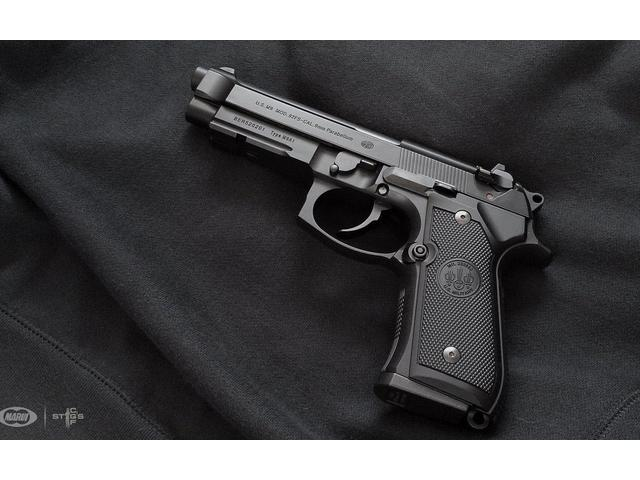pistol: (181, 65, 556, 434)
